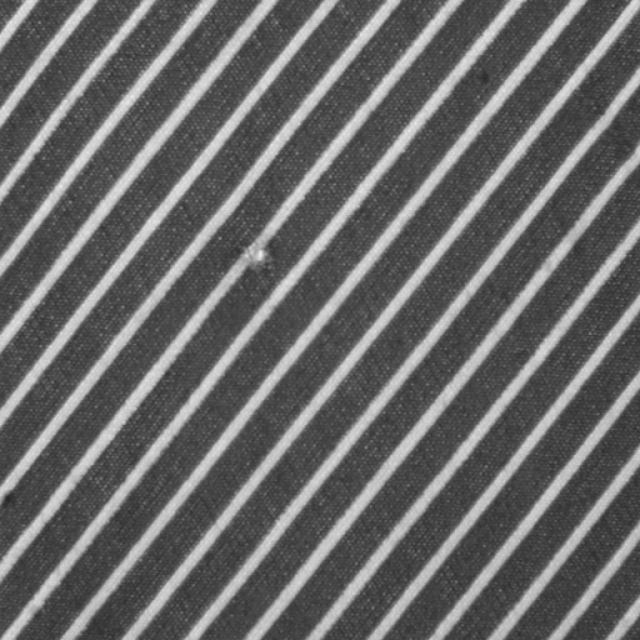Hole-Defect: (238, 238, 274, 271)
